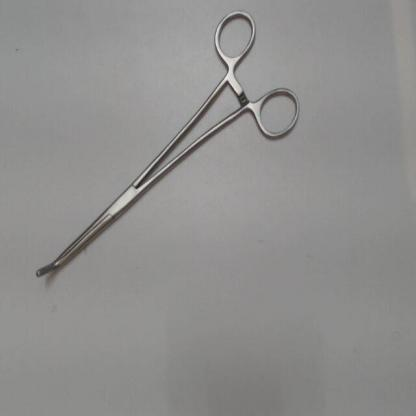Lahey Forceps: (27, 3, 308, 296)
